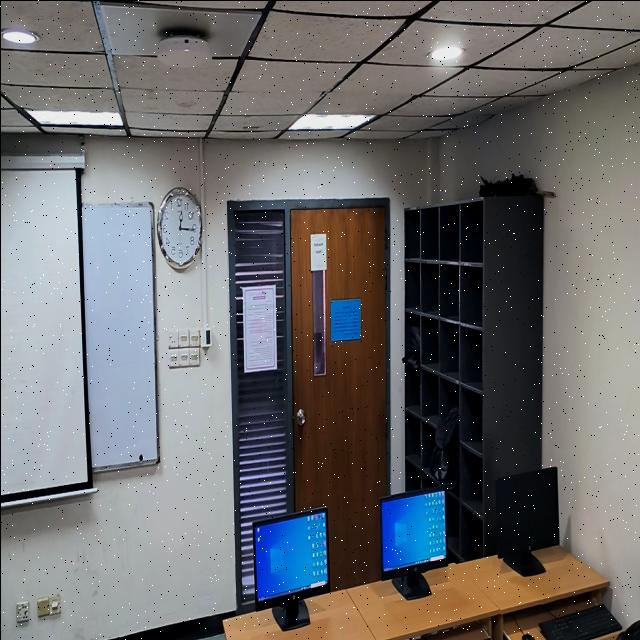Keyboard: (538, 604, 620, 640)
Light: (27, 109, 122, 127), (288, 113, 374, 130), (0, 27, 39, 44), (430, 45, 463, 59)
Monitor: (252, 506, 329, 630), (379, 487, 447, 597), (495, 466, 558, 556)
Mouse: (521, 633, 535, 640)
